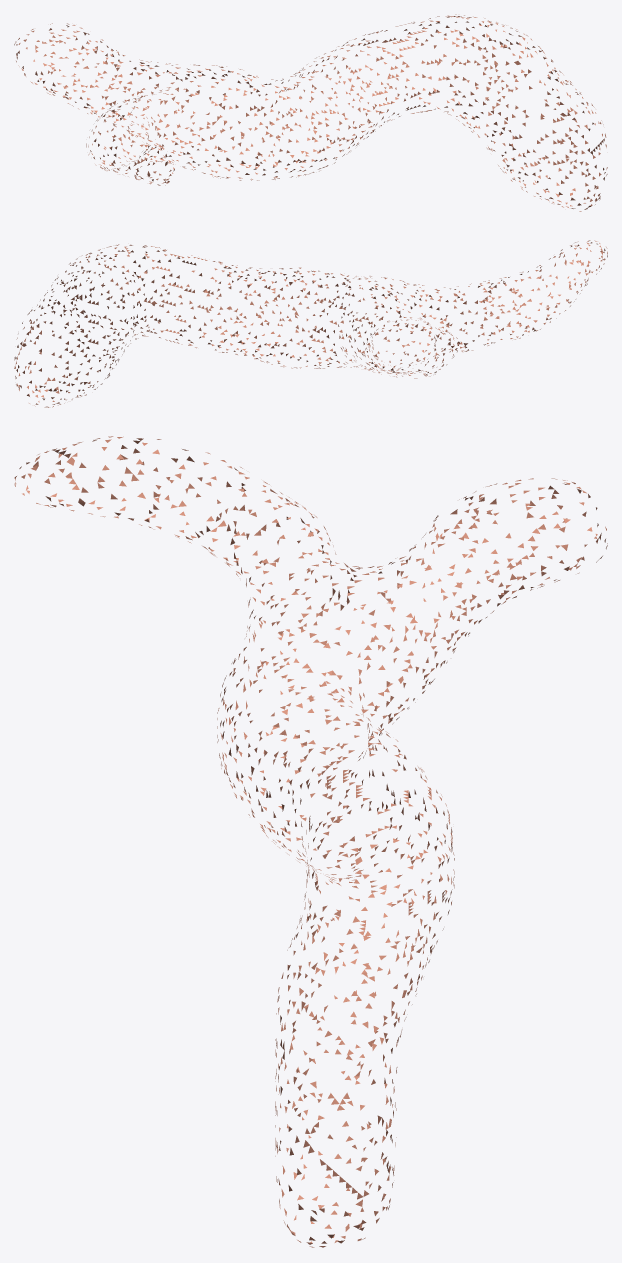
File: morph_003.glb
3 renders of one model, top to bottom at view 1: azimuth 30°, elevation 25°; view 2: azimuth 150°, elevation 25°; view 3: azimuth 270°, elevation 25°, orthographic. The views are drawn at different scales.
Bounding box in the file's own units: 102 × 43.62 × 58.31.
